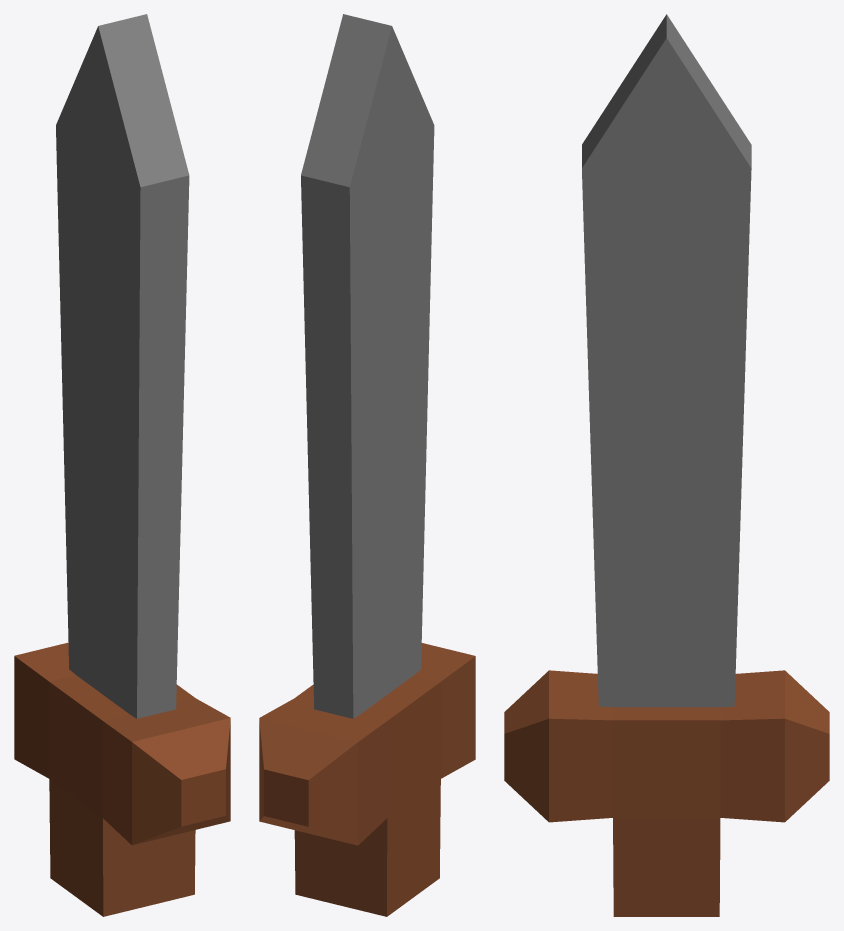
File: MiniSword.fbx
3 renders of one model, left to right at view 1: azimuth 30°, elevation 25°; view 2: azimuth 150°, elevation 25°; view 3: azimuth 270°, elevation 25°, orthographic.
Visible parts, largest first — view 1: Cube; view 2: Cube; view 3: Cube.
Boxes of the visible parts, <box> form: Cube: <box>14,14,230,916</box>; Cube: <box>259,14,475,916</box>; Cube: <box>504,14,829,916</box>.
Size of the model in its own units: 30.89 by 259 by 87.8.
